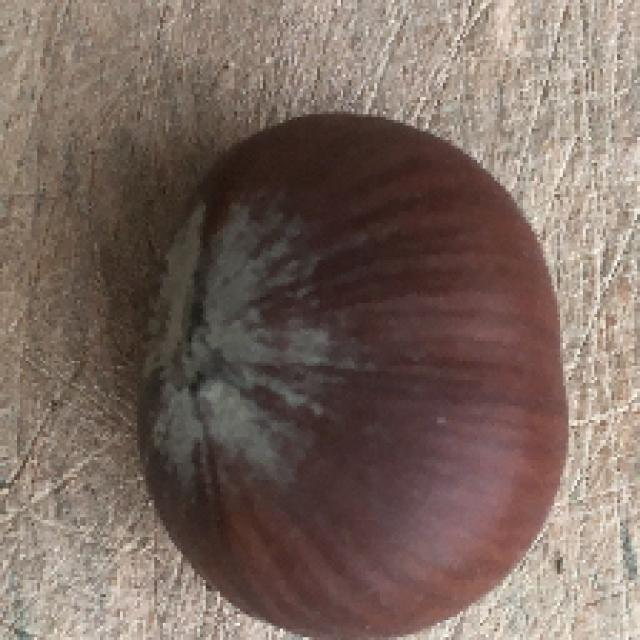damagedHazelnut: (114, 105, 591, 640)
